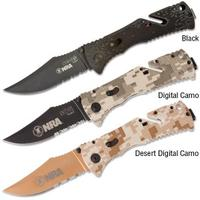knife: (3, 2, 191, 193)
